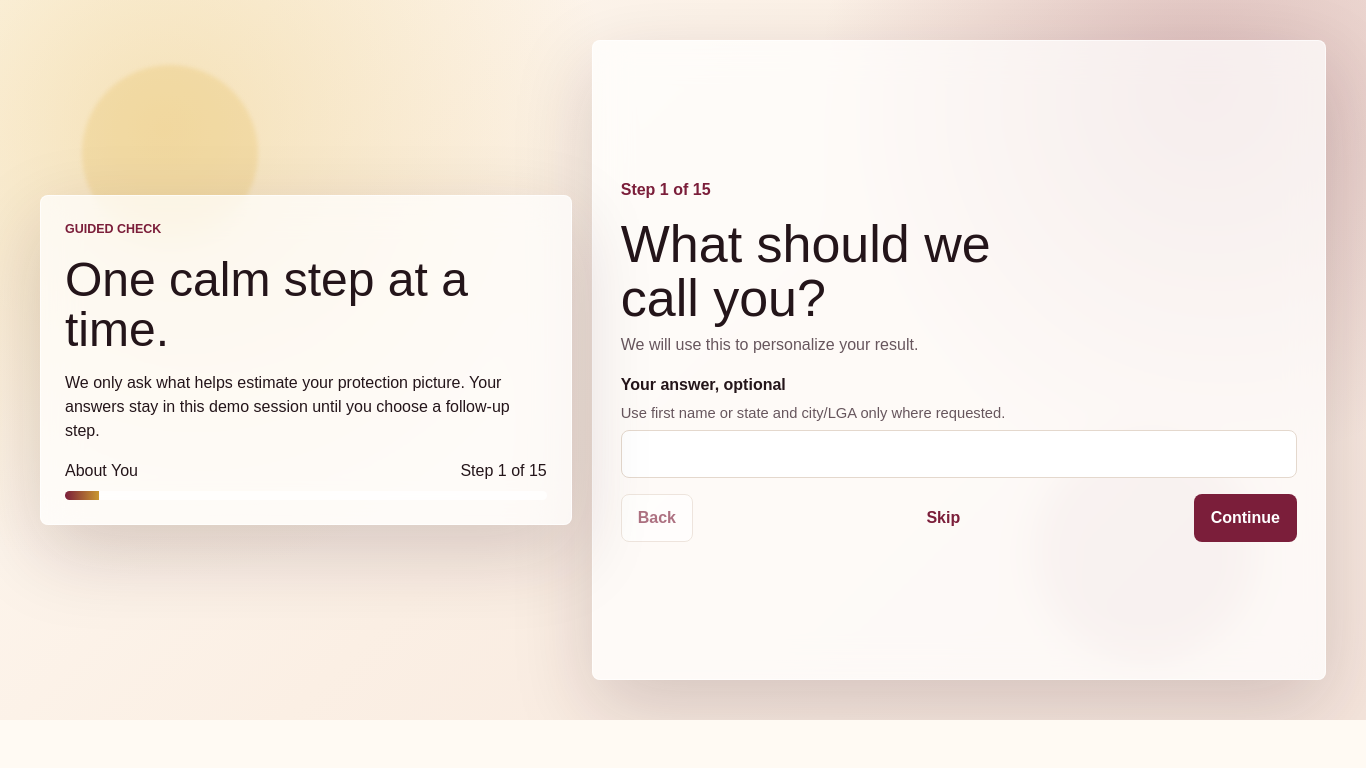
Test: protection check flow › blocks required questions when unanswered and accepts not-sure options
Click the button "Skip". click: [943, 518]
box: [909,494,977,542]
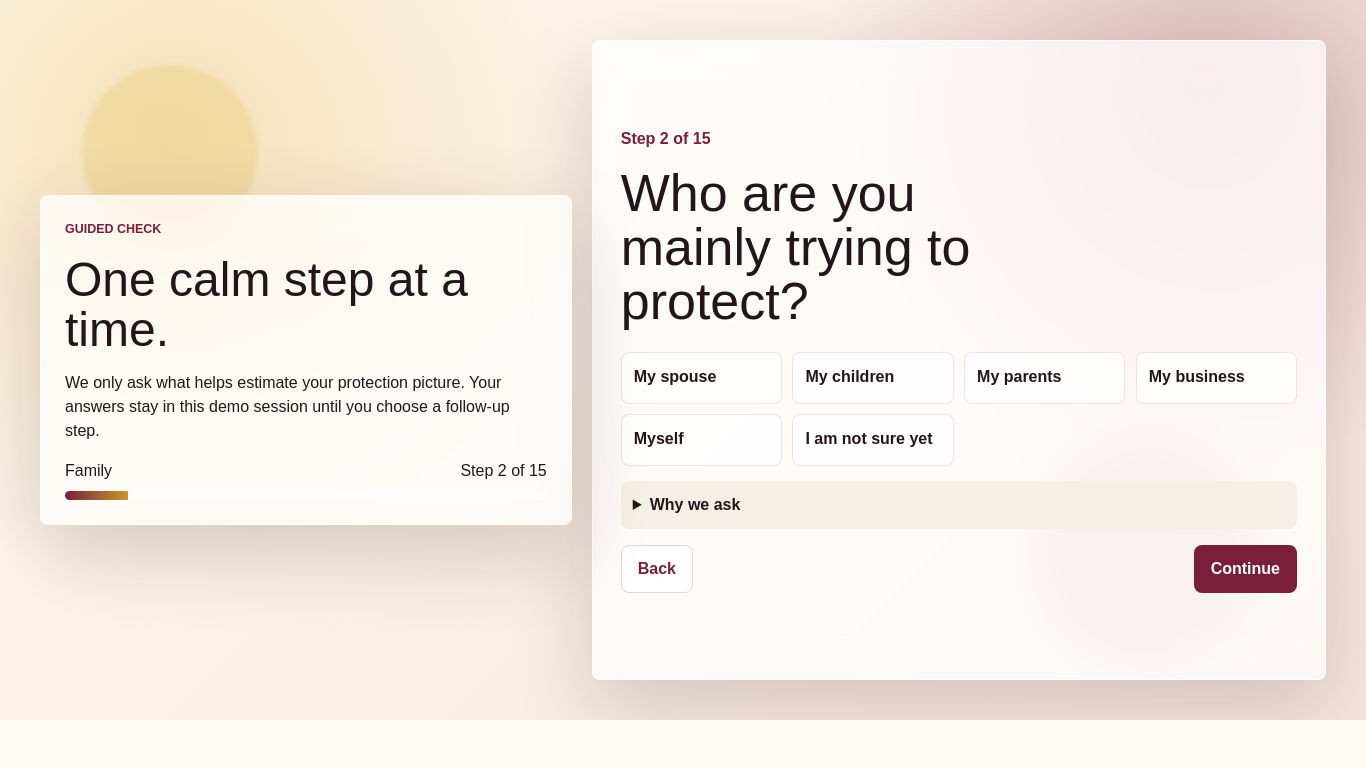
Click the button "Continue". click: [1245, 569]
box: [1194,545,1297,593]
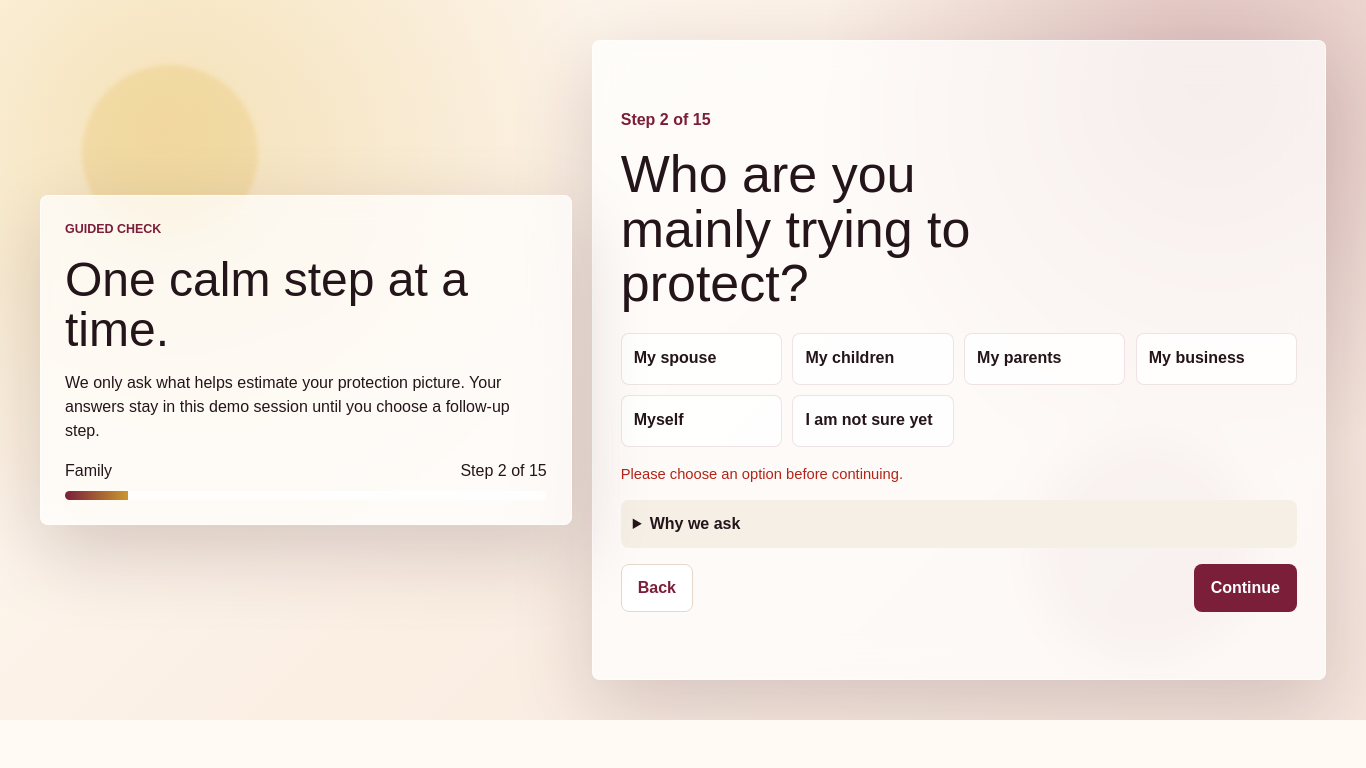
Now the message shows "choose an option", box [621,466,903,482]
Click the button "I am not sure yet". click: [873, 421]
box: [792,395,954,447]
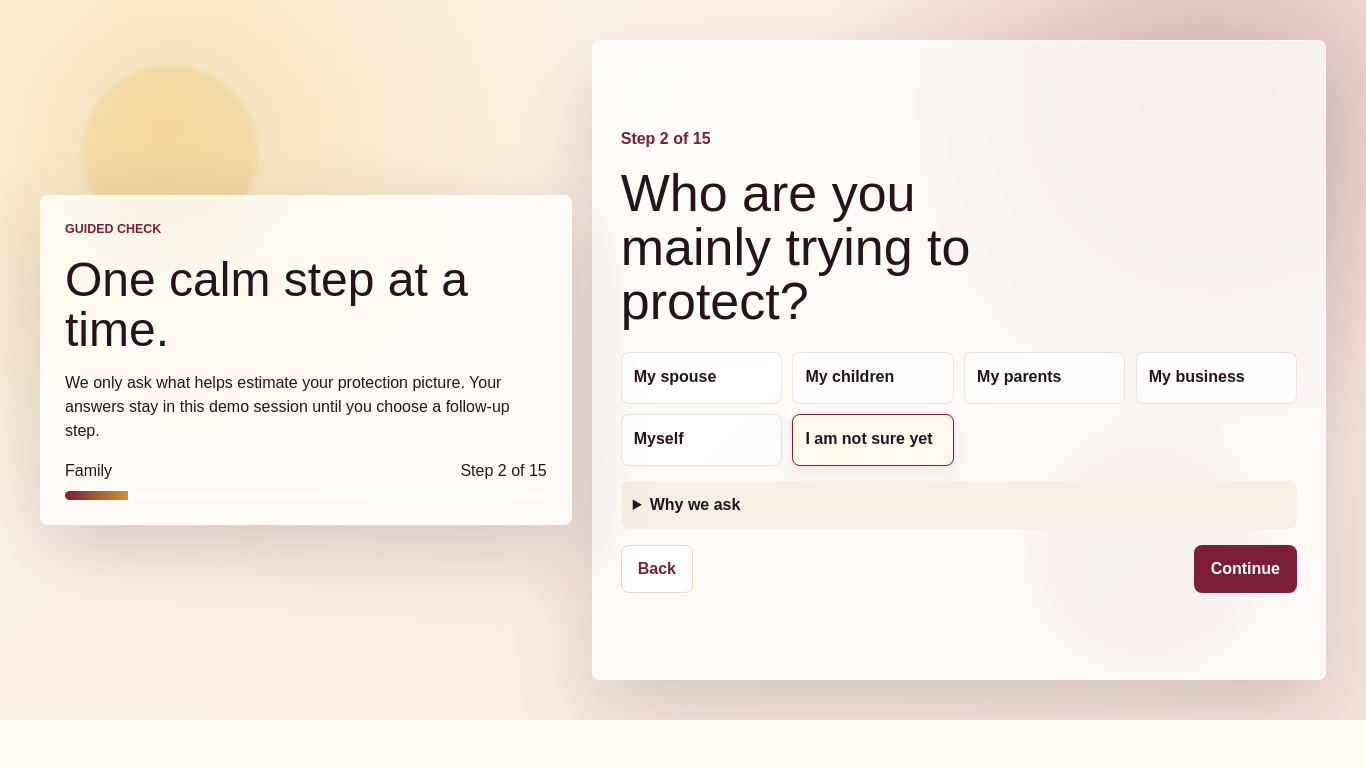
Click the button "Continue". click: [1245, 569]
box: [1194,545,1297,593]
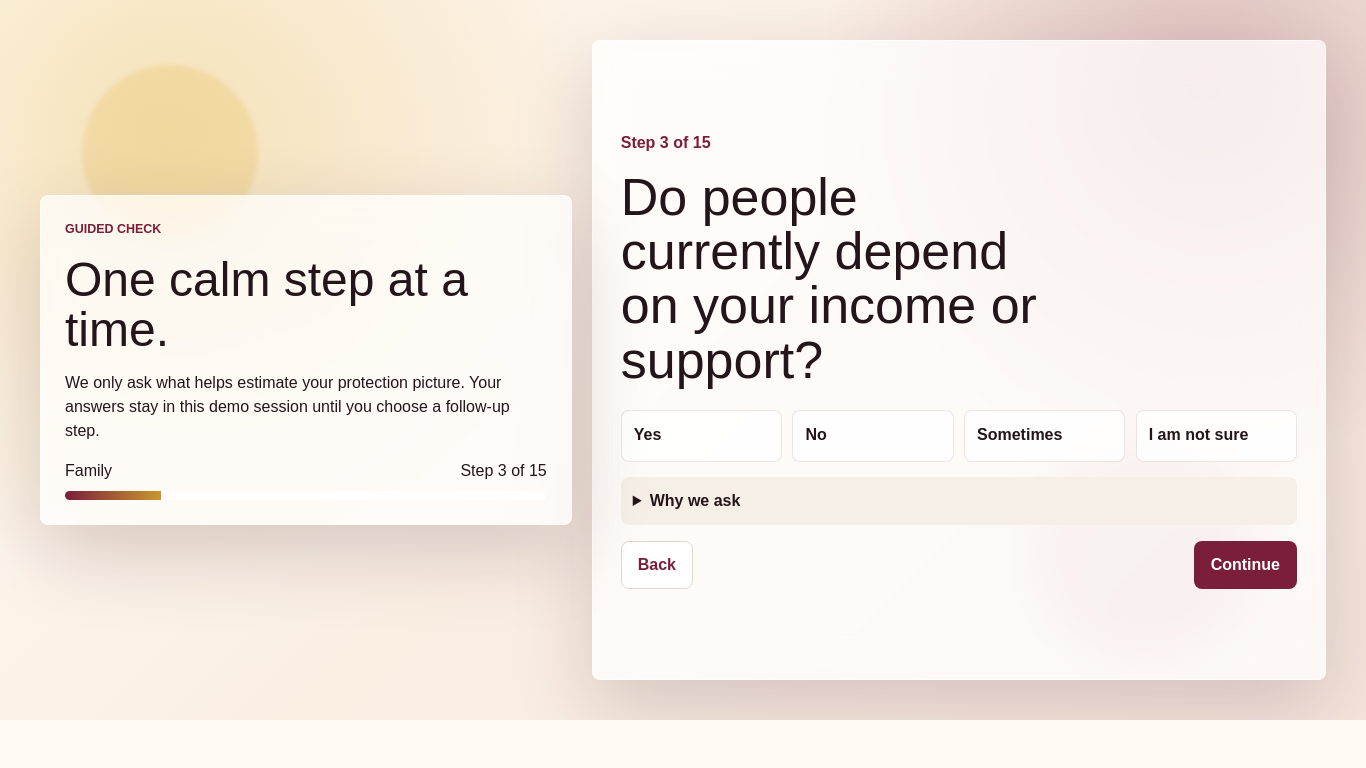
Now the heading "Do people currently depend on your income or support?" is shown, box [621,170,1054,387]
